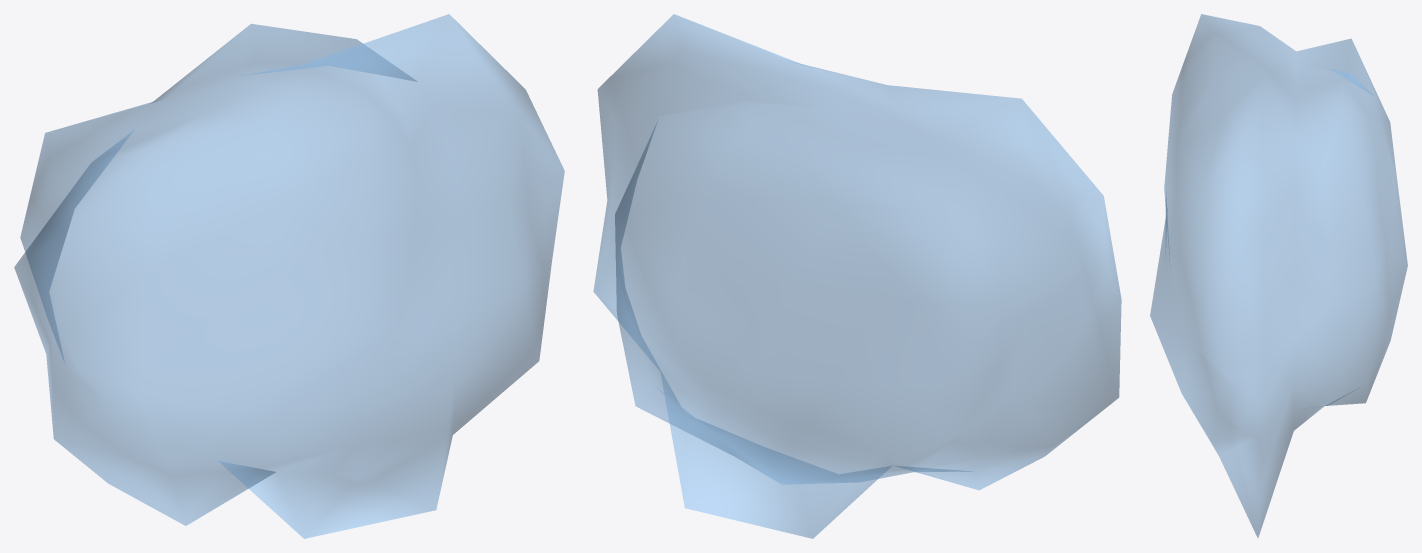
Rendered from mexplosives_shield.gltf.
3 views of the same model, side by side, from view 1: azimuth 30°, elevation 25°; view 2: azimuth 150°, elevation 25°; view 3: azimuth 270°, elevation 25° (orthographic). The views are drawn at different scales.
Parts seen in each view (by area): view 1: mexplosives.shield; view 2: mexplosives.shield; view 3: mexplosives.shield.
Part boxes in pixels (x1,y1,x2,y2): mexplosives.shield: (14,14,564,538); mexplosives.shield: (593,14,1121,538); mexplosives.shield: (1150,14,1407,537).
Bounding box in the file's own units: 11.98 × 10.89 × 6.01.
